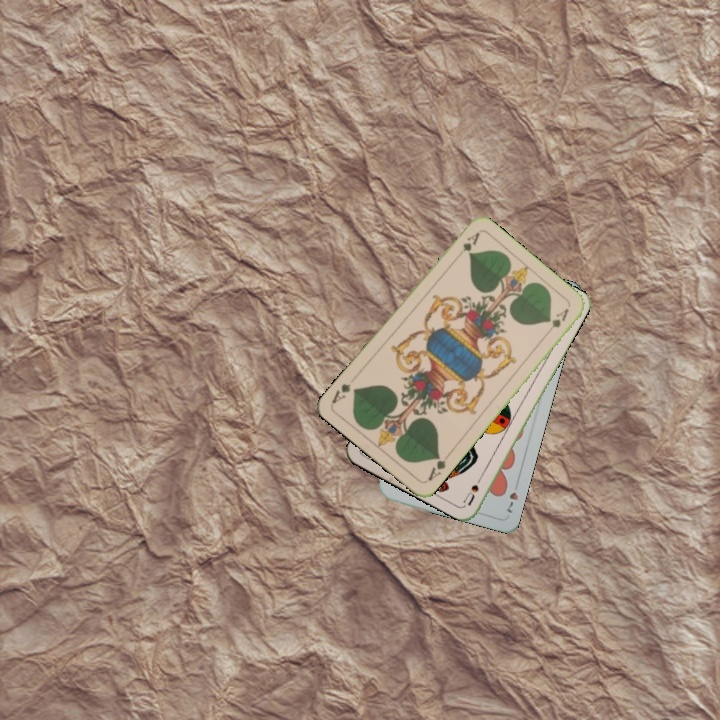GA: (424, 449, 452, 484), (459, 228, 482, 254)
H7: (502, 477, 522, 516)
SU: (459, 469, 487, 508)
